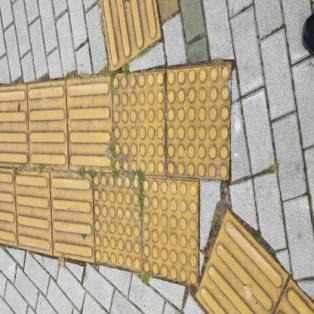Podoctatil: (0, 55, 236, 313), (187, 199, 313, 313), (95, 0, 165, 70)
